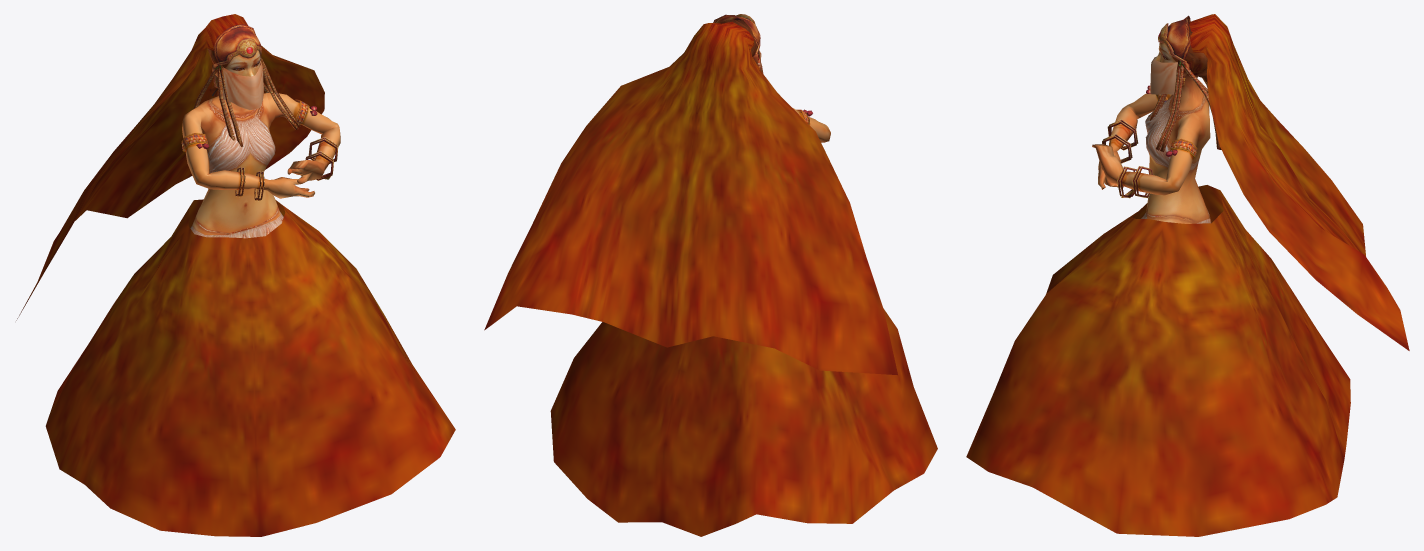
Rendered from Sharazad.fbx.
The picture shows the model from 3 angles, left to right: view 1: azimuth 30°, elevation 25°; view 2: azimuth 150°, elevation 25°; view 3: azimuth 270°, elevation 25°; orthographic projection. The views are drawn at different scales.
Parts seen in each view (by area): view 1: Body; view 2: Body; view 3: Body.
Boxes of the visible parts, x1=… form: Body: x1=16, y1=14, x2=455, y2=536; Body: x1=484, y1=14, x2=937, y2=536; Body: x1=966, y1=14, x2=1409, y2=536.
Bounding box in the file's own units: 1226 × 1443 × 1262.
1 material, 1 textured.
